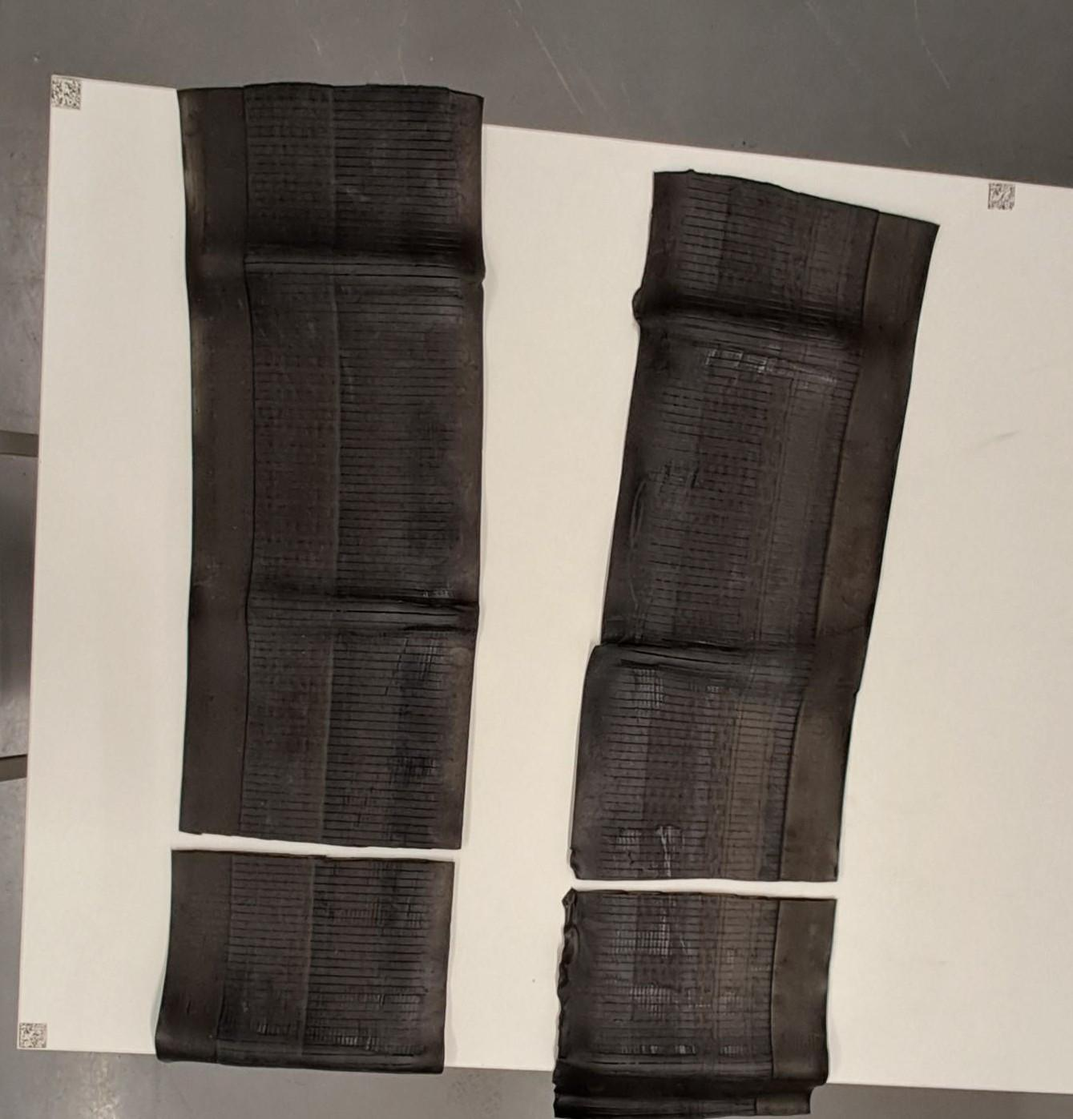cut_edge: (171, 831, 461, 862), (572, 879, 835, 900)
qr_code: (53, 76, 80, 109), (989, 183, 1015, 209), (19, 1023, 46, 1047)
